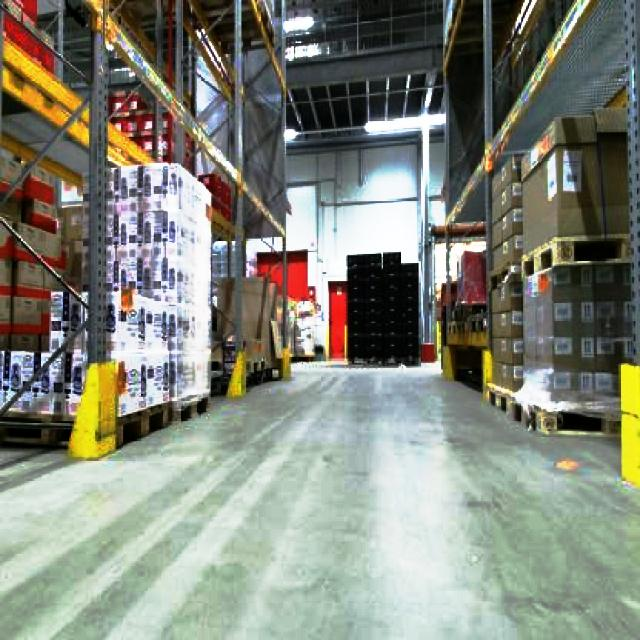ground: (0, 355, 638, 638)
pallet: (435, 0, 638, 511), (485, 103, 637, 437), (0, 125, 77, 449), (518, 232, 634, 432), (429, 220, 489, 395), (345, 251, 420, 366), (214, 274, 283, 383), (617, 358, 638, 498)
